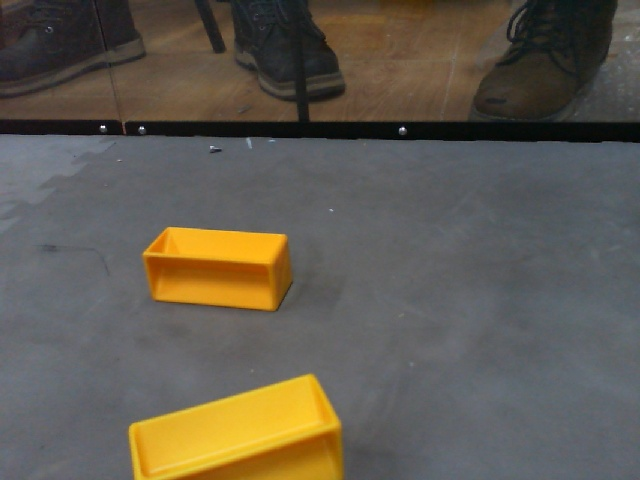YellowSample: (118, 371, 348, 480), (137, 220, 298, 315)
